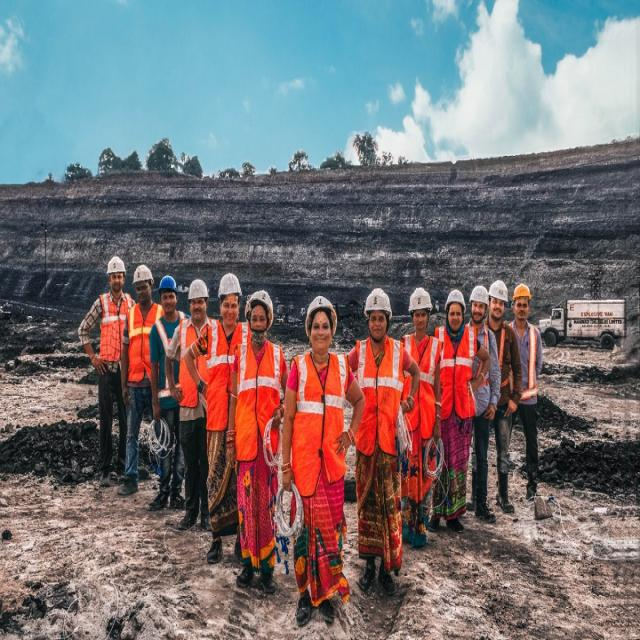light_vehicle: (542, 291, 632, 354)
